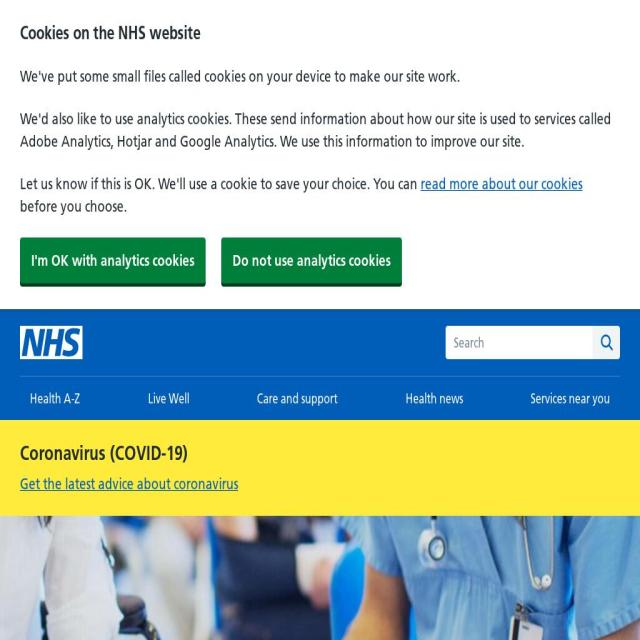button: (20, 238, 206, 284), (221, 238, 402, 284), (247, 377, 347, 420), (521, 377, 620, 420), (395, 377, 473, 420), (20, 377, 90, 420), (138, 377, 200, 420), (20, 326, 82, 359)
field: (446, 326, 592, 359)
heading: (20, 440, 620, 466), (20, 20, 620, 45)
image: (20, 326, 82, 359)
link: (20, 474, 238, 494), (420, 174, 582, 193)
text: (20, 108, 620, 152), (20, 65, 620, 87), (20, 174, 421, 193), (20, 197, 127, 216), (257, 390, 337, 407), (531, 390, 610, 407), (405, 390, 463, 407), (30, 390, 80, 407), (148, 390, 190, 407)
